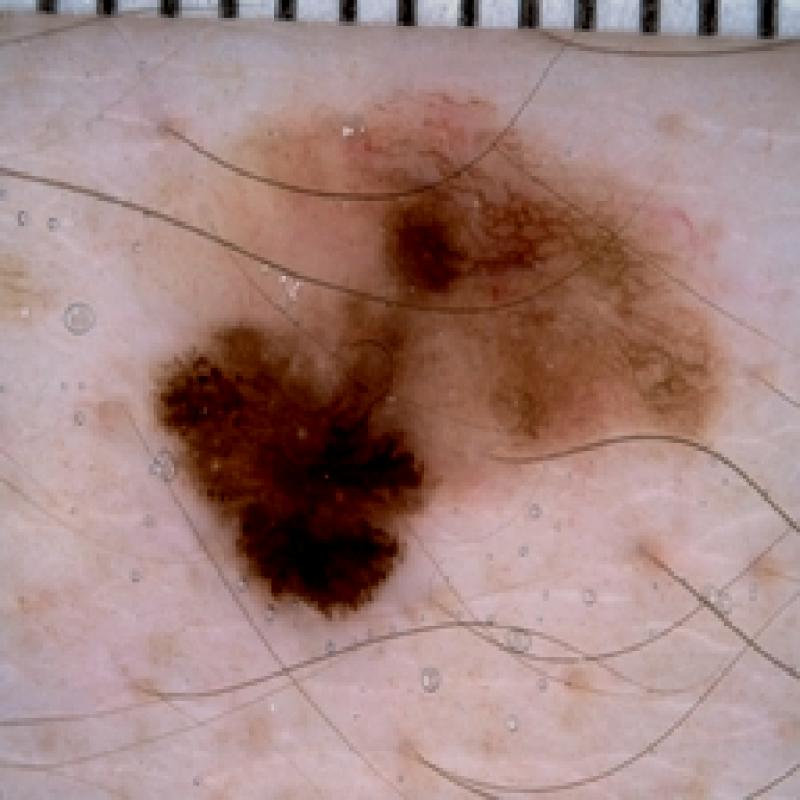malignant: (112, 86, 722, 648)
